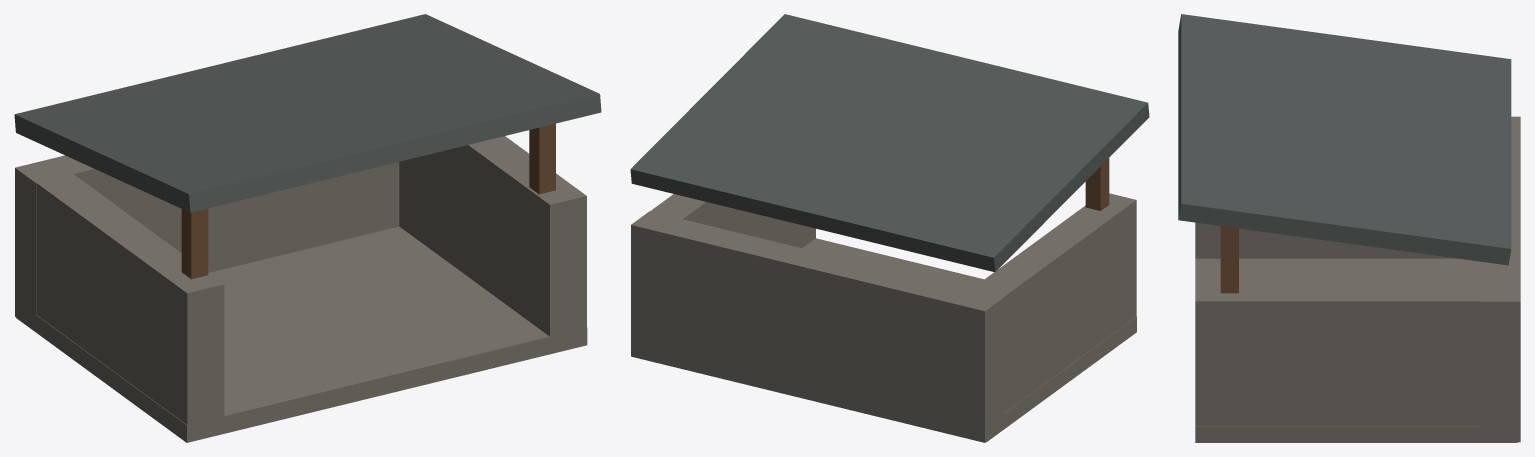
The model's file is ManureStorage.glb.
3 views of the same model, side by side, from view 1: azimuth 30°, elevation 25°; view 2: azimuth 150°, elevation 25°; view 3: azimuth 270°, elevation 25° (orthographic). The views are drawn at different scales.
Visible parts, largest first — view 1: hand-pump-static-manure-storage-concrete, hand-pump-static-manure-storage-roof, hand-pump-static-manure-storage-timber; view 2: hand-pump-static-manure-storage-concrete, hand-pump-static-manure-storage-roof, hand-pump-static-manure-storage-timber; view 3: hand-pump-static-manure-storage-roof, hand-pump-static-manure-storage-concrete, hand-pump-static-manure-storage-timber.
Part boxes in pixels (x1,y1,x2,y2): hand-pump-static-manure-storage-concrete: (15,136,587,442); hand-pump-static-manure-storage-roof: (14,14,601,212); hand-pump-static-manure-storage-timber: (181,123,555,279); hand-pump-static-manure-storage-concrete: (631,193,1136,442); hand-pump-static-manure-storage-roof: (630,14,1149,272); hand-pump-static-manure-storage-timber: (1085,158,1109,210); hand-pump-static-manure-storage-roof: (1178,14,1511,265); hand-pump-static-manure-storage-concrete: (1195,116,1520,442); hand-pump-static-manure-storage-timber: (1220,226,1238,293).
Bounding box in the file's own units: 3.9 × 2.32 × 2.97.
